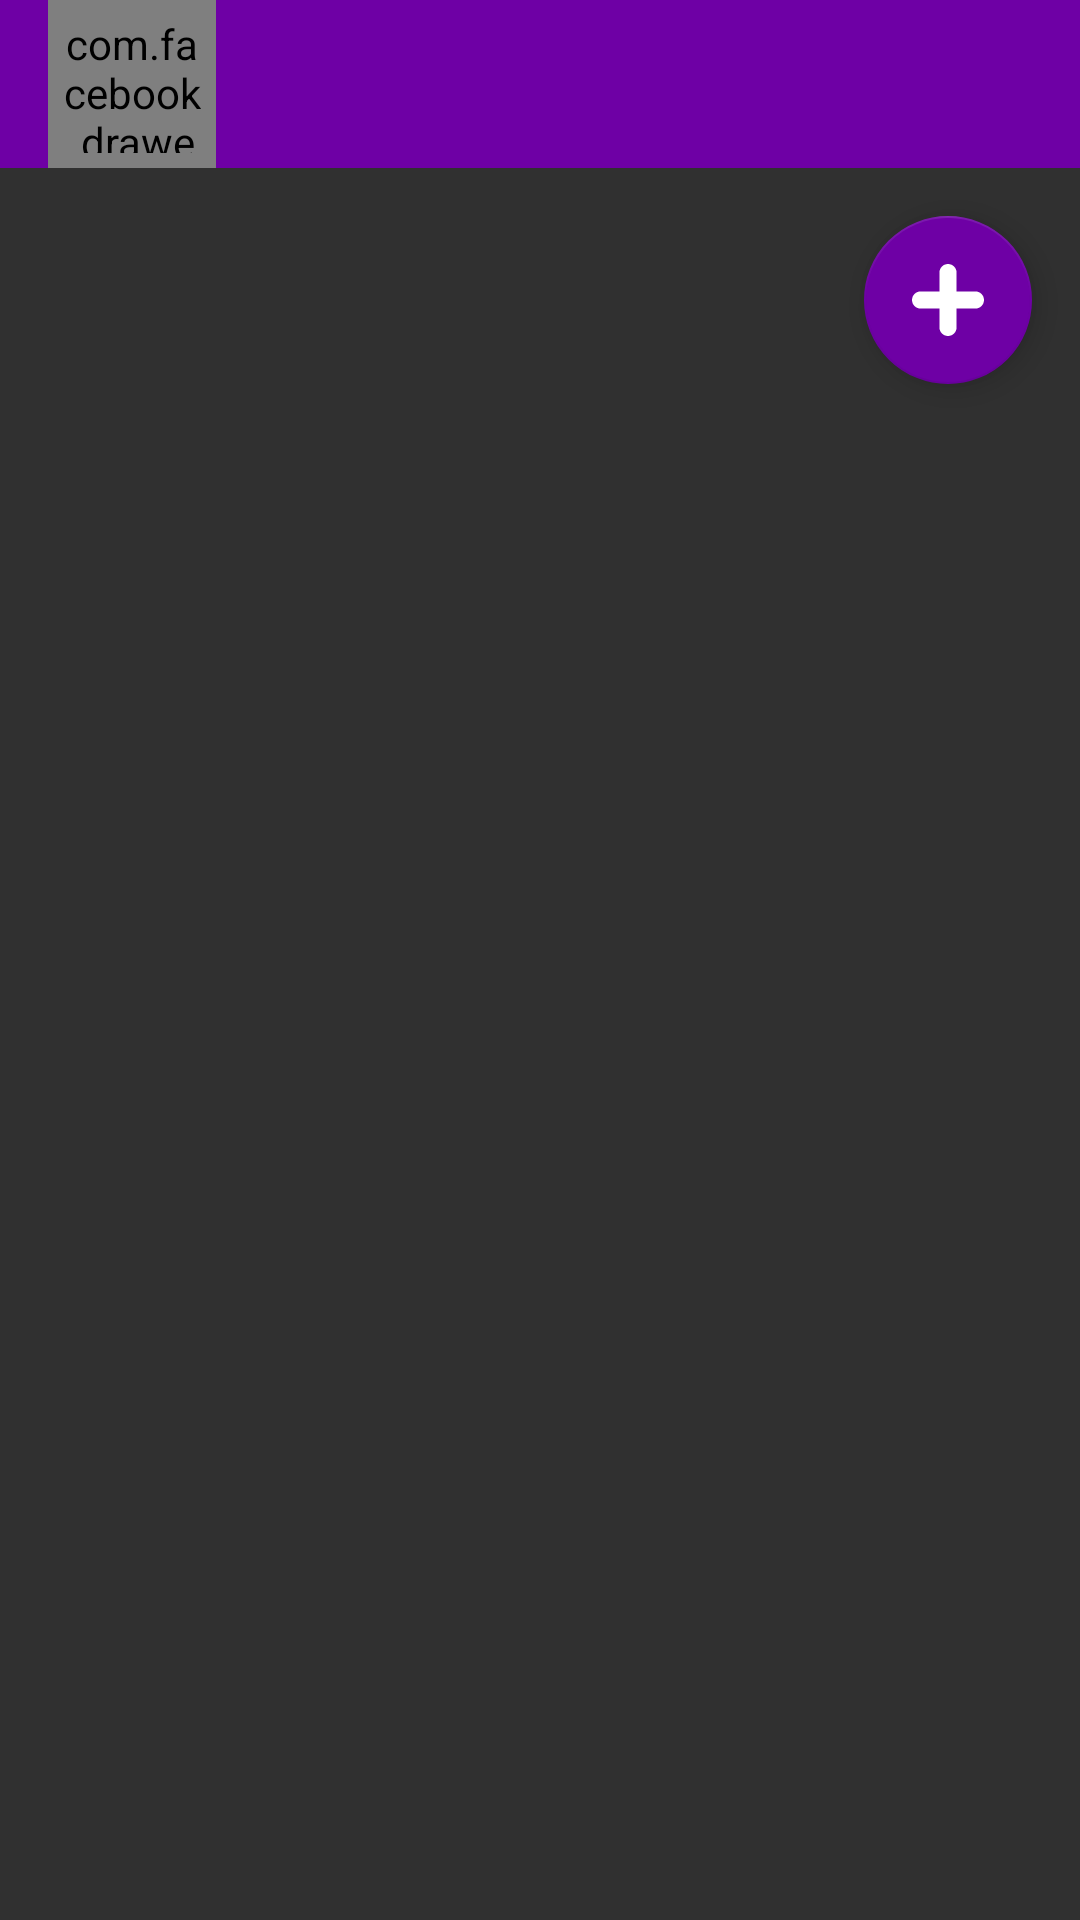

Where to tap for icons on this 1080*1920 app screen, as point (x, y):
add: point (948, 300)
